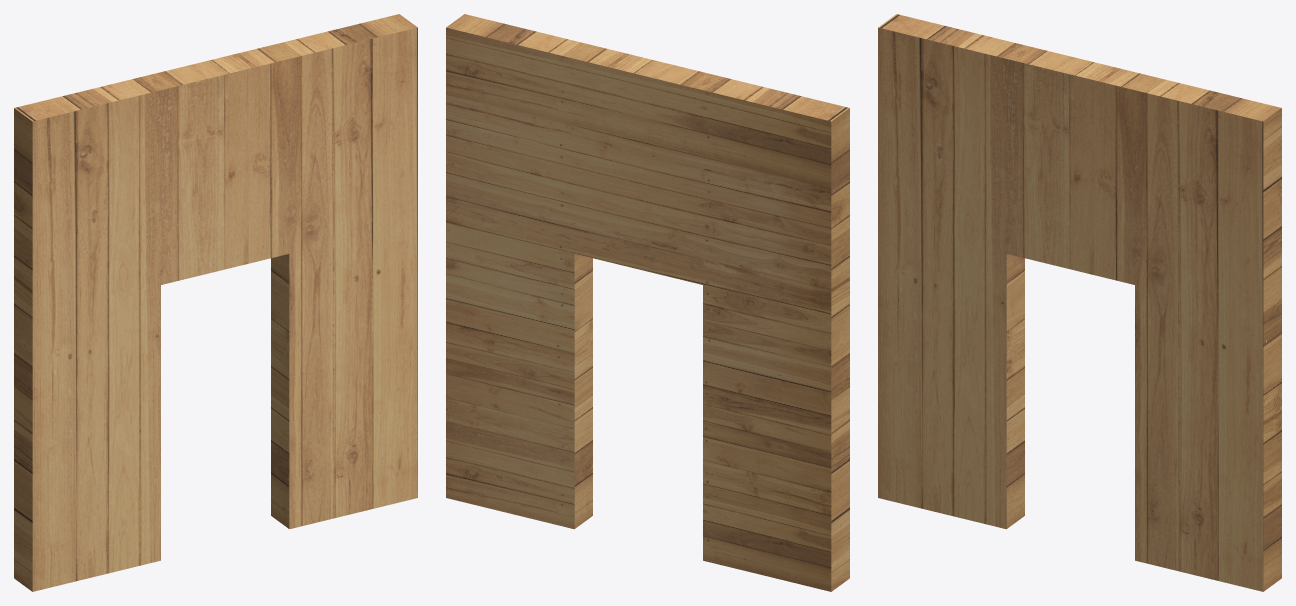
The model's file is door_v3.fbx.
3 renders of one model, left to right at view 1: azimuth 30°, elevation 25°; view 2: azimuth 150°, elevation 25°; view 3: azimuth 330°, elevation 25°, orthographic.
Visible parts, largest first — view 1: door_v3; view 2: door_v3; view 3: door_v3.
Part boxes in pixels (x1,y1,x2,y2): door_v3: (14,14,417,591); door_v3: (446,14,849,591); door_v3: (878,14,1281,591).
Bounding box in the file's own units: 300 × 25 × 350.
